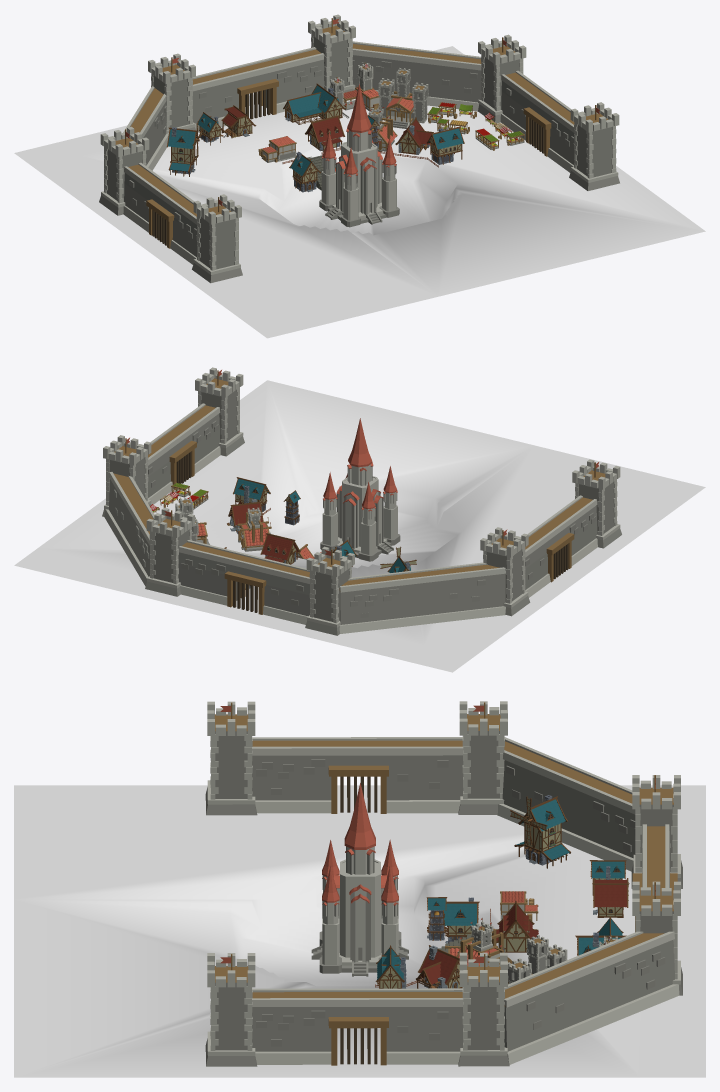
Rendered from codequest_map.fbx.
The picture shows the model from 3 angles, top to bottom: view 1: azimuth 30°, elevation 25°; view 2: azimuth 150°, elevation 25°; view 3: azimuth 270°, elevation 25°; orthographic projection. The views are drawn at different scales.
Visible parts, largest first — view 1: Plane, WallTowers_DoorClosed_SecondAge_Cube.001, WallTowers_DoorClosed_SecondAge_Cube.002, WallTowers_DoorClosed_SecondAge_Cube.003, Temple_SecondAge_Level3_Cube.223, Wall_SecondAge_Cube.001, Barracks_SecondAge_Level3_Cube.003, Wall_SecondAge_Cube.027, Stable_Cube.195, Archery_SecondAge_Level3_Cube.288, Mill_Cube.128, House_2_Cylinder.001 (+7 smaller); view 2: Plane, WallTowers_DoorClosed_SecondAge_Cube.001, WallTowers_DoorClosed_SecondAge_Cube.002, Wall_SecondAge_Cube.027, WallTowers_DoorClosed_SecondAge_Cube.003, Temple_SecondAge_Level3_Cube.223, Wall_SecondAge_Cube.001, TowerHouse_SecondAge_Cube.028, Inn_Cube.393, House_2_Cylinder.001, Barracks_SecondAge_Level3_Cube.003, Blacksmith_Cube.000; view 3: Plane, WallTowers_DoorClosed_SecondAge_Cube.003, WallTowers_DoorClosed_SecondAge_Cube.002, Wall_SecondAge_Cube.001, Temple_SecondAge_Level3_Cube.223, Wall_SecondAge_Cube.027, WallTowers_DoorClosed_SecondAge_Cube.001, Mill_Cube.128, Barracks_SecondAge_Level3_Cube.003, Blacksmith_Cube.000, Sawmill_Cube.047, Inn_Cube.393 (+7 smaller).
Boxes of the visible parts, x1,y1,x2,y2 form: Plane: (14, 46, 705, 338); WallTowers_DoorClosed_SecondAge_Cube.001: (148, 14, 355, 133); WallTowers_DoorClosed_SecondAge_Cube.002: (99, 126, 242, 283); WallTowers_DoorClosed_SecondAge_Cube.003: (478, 34, 619, 190); Temple_SecondAge_Level3_Cube.223: (319, 83, 399, 227); Wall_SecondAge_Cube.001: (352, 41, 481, 111); Barracks_SecondAge_Level3_Cube.003: (378, 68, 428, 128); Wall_SecondAge_Cube.027: (123, 86, 168, 170); Stable_Cube.195: (283, 83, 345, 124); Archery_SecondAge_Level3_Cube.288: (330, 62, 379, 118); Mill_Cube.128: (166, 127, 199, 176); House_2_Cylinder.001: (427, 126, 464, 164); Plane: (14, 380, 705, 672); WallTowers_DoorClosed_SecondAge_Cube.001: (145, 507, 354, 635); WallTowers_DoorClosed_SecondAge_Cube.002: (480, 459, 621, 616); Wall_SecondAge_Cube.027: (339, 562, 505, 633); WallTowers_DoorClosed_SecondAge_Cube.003: (102, 367, 244, 516); Temple_SecondAge_Level3_Cube.223: (320, 418, 400, 561); Wall_SecondAge_Cube.001: (104, 472, 154, 586); TowerHouse_SecondAge_Cube.028: (237, 505, 271, 551); Inn_Cube.393: (260, 533, 300, 564); House_2_Cylinder.001: (233, 477, 270, 511); Barracks_SecondAge_Level3_Cube.003: (175, 497, 209, 544); Blacksmith_Cube.000: (227, 499, 263, 533); Plane: (14, 785, 705, 1077); WallTowers_DoorClosed_SecondAge_Cube.003: (205, 952, 509, 1066); WallTowers_DoorClosed_SecondAge_Cube.002: (205, 701, 507, 815); Wall_SecondAge_Cube.001: (504, 931, 679, 1064); Temple_SecondAge_Level3_Cube.223: (311, 783, 408, 976); Wall_SecondAge_Cube.027: (497, 737, 635, 871); WallTowers_DoorClosed_SecondAge_Cube.001: (631, 775, 682, 995); Mill_Cube.128: (514, 795, 570, 868); Barracks_SecondAge_Level3_Cube.003: (508, 934, 567, 984); Blacksmith_Cube.000: (416, 945, 462, 988); Sawmill_Cube.047: (592, 878, 629, 917); Inn_Cube.393: (496, 901, 538, 952).
Bounding box in the file's own units: 62618 × 17399 × 62618.
